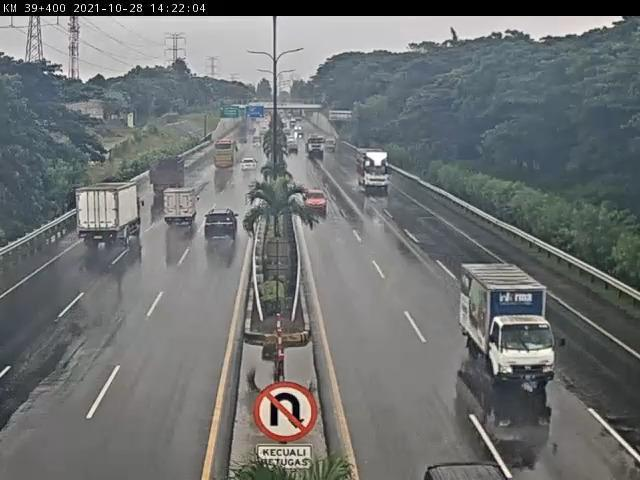bus: (213, 139, 242, 172)
car: (207, 210, 240, 242), (302, 184, 329, 210), (241, 158, 259, 174)
truck: (457, 262, 559, 385), (79, 182, 144, 246), (160, 187, 199, 229), (148, 155, 188, 195), (356, 146, 391, 190)
